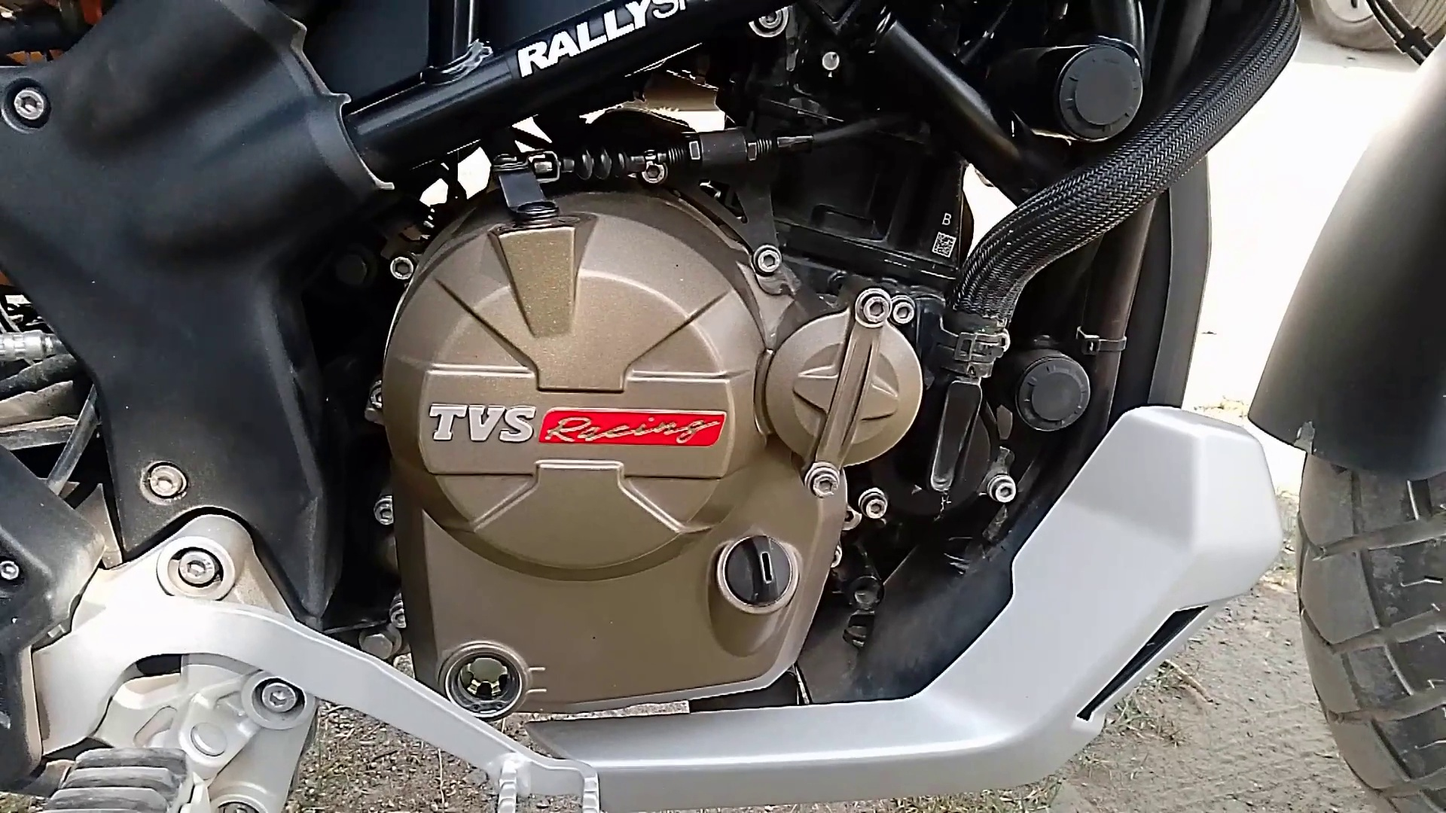engine: (331, 72, 975, 760)
oil_cap: (700, 519, 808, 630)
oil_marker: (420, 632, 578, 730)
